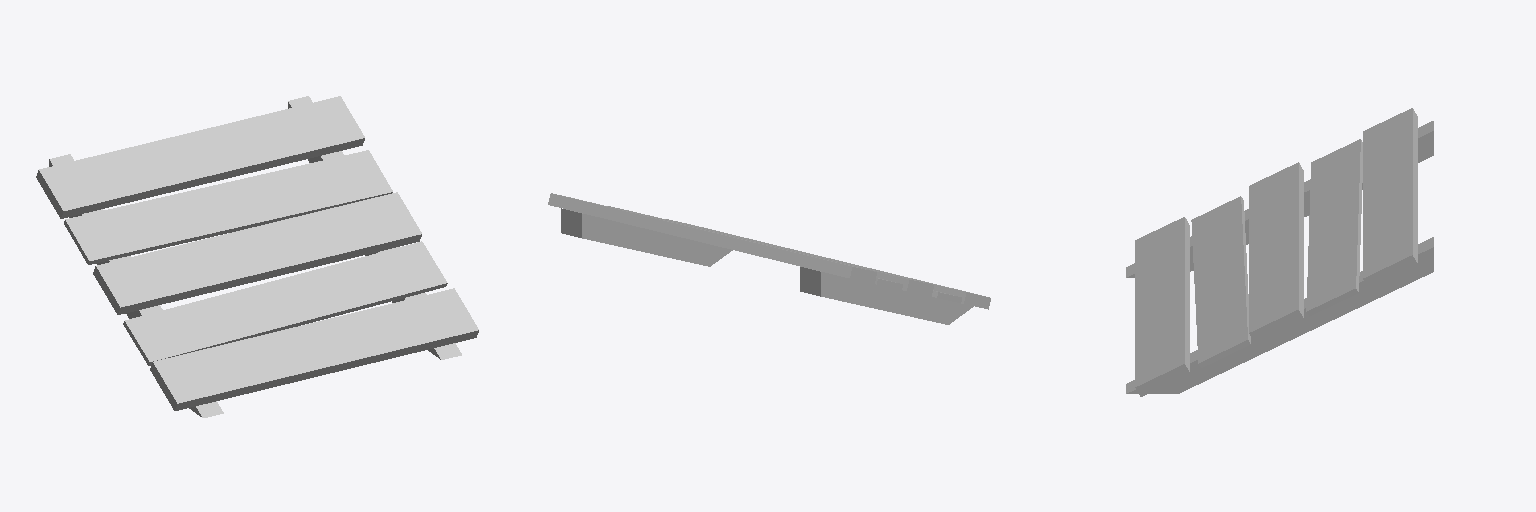
Rendered from bridgeRamp.obj.
3 renders of one model, left to right at view 1: azimuth 30°, elevation 25°; view 2: azimuth 150°, elevation 25°; view 3: azimuth 270°, elevation 25°, orthographic.
Visible parts, largest first — view 1: bridgeRamp; view 2: bridgeRamp; view 3: bridgeRamp.
Part boxes in pixels (left/top/right/bottom): bridgeRamp: left=36, top=96, right=478, bottom=417; bridgeRamp: left=548, top=193, right=990, bottom=324; bridgeRamp: left=1126, top=108, right=1433, bottom=396.
Bounding box in the file's own units: 1 × 0.4726 × 0.882.